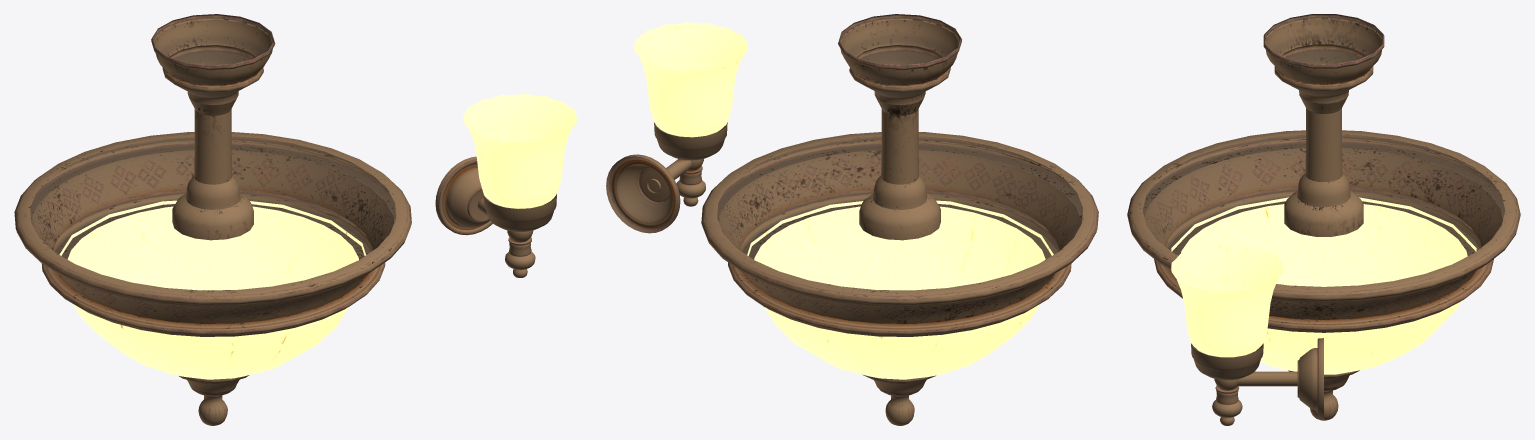
The model's file is roof_lamp.glb.
The picture shows the model from 3 angles, left to right: view 1: azimuth 30°, elevation 25°; view 2: azimuth 150°, elevation 25°; view 3: azimuth 270°, elevation 25°; orthographic projection.
Visible parts, largest first — view 1: lamp1.001, lamp2.001; view 2: lamp1.001, lamp2.001; view 3: lamp1.001, lamp2.001.
Boxes of the visible parts, x1,y1,x2,y2 form: lamp1.001: (14,14,411,425); lamp2.001: (435,93,577,277); lamp1.001: (701,14,1098,425); lamp2.001: (606,22,747,233); lamp1.001: (1127,14,1520,420); lamp2.001: (1171,244,1323,425).
Bounding box in the file's own units: 7.14 × 5.47 × 5.13.
1 material, 1 textured.
